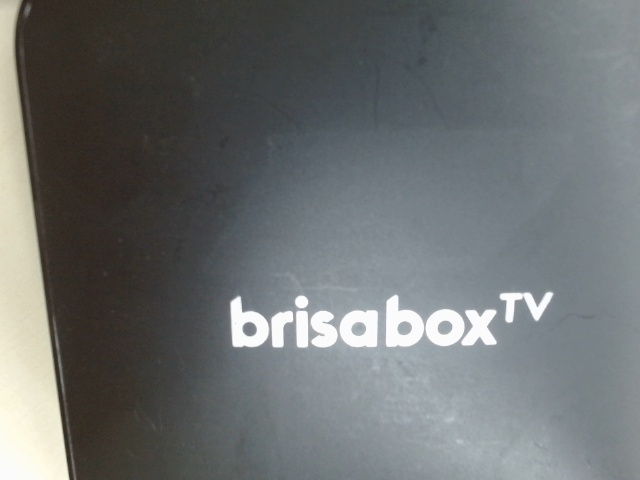AH_brisabox: (225, 279, 561, 360)
